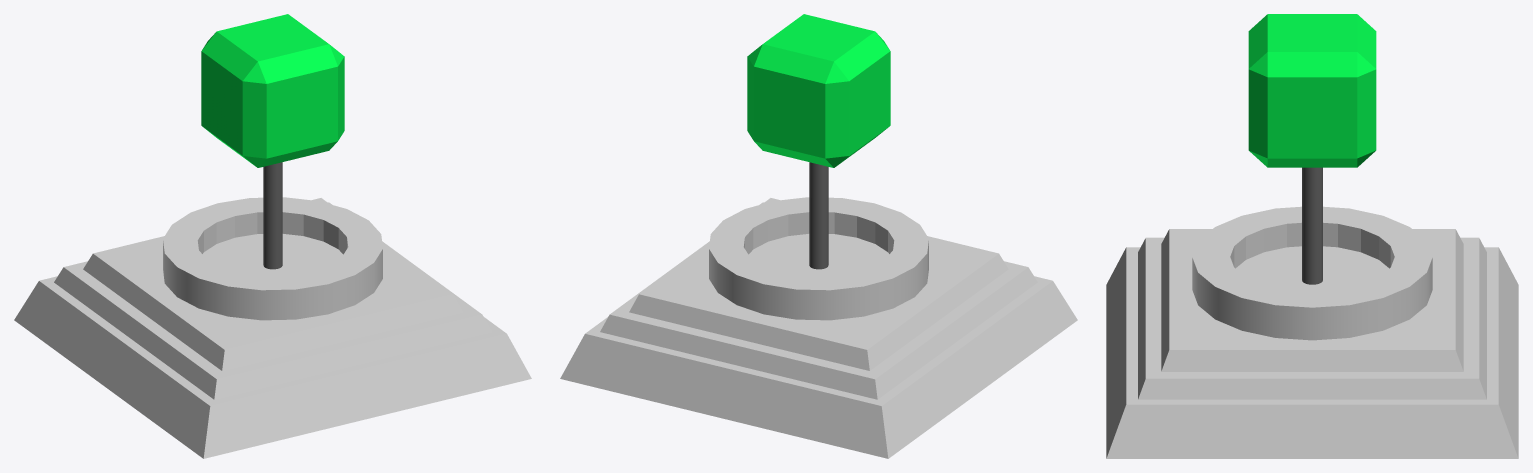
File: dodai.1.fbx
3 renders of one model, left to right at view 1: azimuth 30°, elevation 25°; view 2: azimuth 150°, elevation 25°; view 3: azimuth 270°, elevation 25°, orthographic. The views are drawn at different scales.
Parts seen in each view (by area): view 1: polySurface8; view 2: polySurface8; view 3: polySurface8.
Boxes of the visible parts, bbox=[...] form: polySurface8: bbox=[14, 14, 531, 458]; polySurface8: bbox=[560, 14, 1077, 458]; polySurface8: bbox=[1106, 14, 1518, 458].
Bounding box in the file's own units: 8.49 × 7.7 × 8.49.
